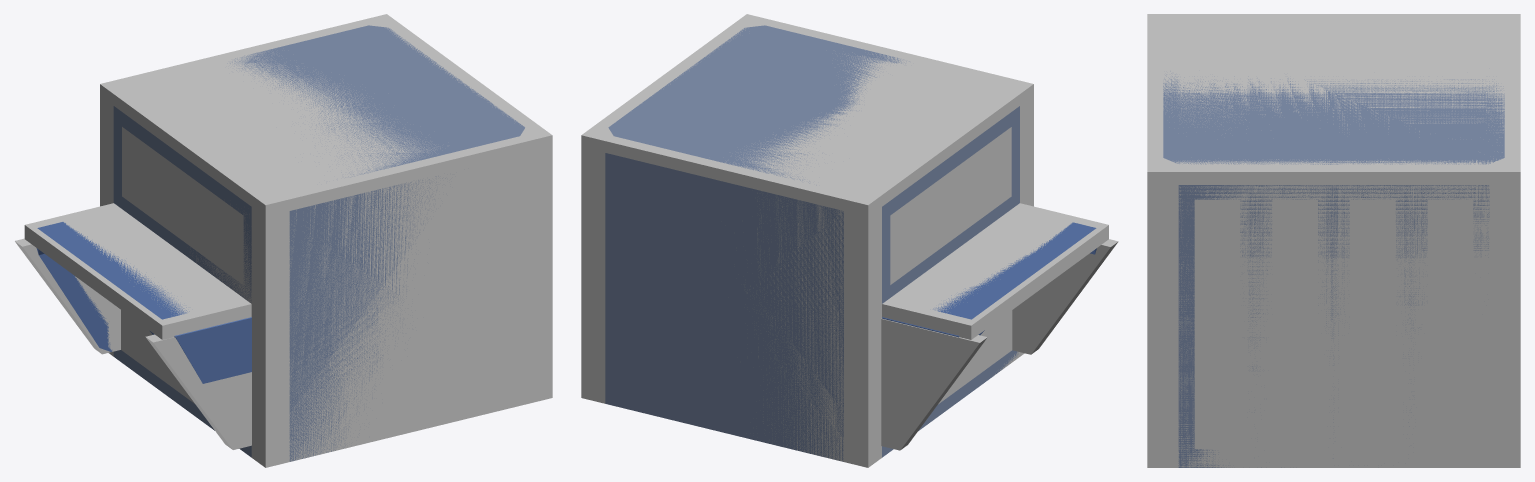
Rendered from SM_Building_15_Base.fbx.
The picture shows the model from 3 angles, left to right: view 1: azimuth 30°, elevation 25°; view 2: azimuth 150°, elevation 25°; view 3: azimuth 270°, elevation 25°; orthographic projection. The views are drawn at different scales.
Visible parts, largest first — view 1: SM_Building_15_Base_ConvexHulls, SM_Building_15_Base; view 2: SM_Building_15_Base, SM_Building_15_Base_ConvexHulls; view 3: SM_Building_15_Base_ConvexHulls, SM_Building_15_Base.
Boxes of the visible parts, x1=… form: SM_Building_15_Base_ConvexHulls: x1=15, y1=14, x2=552, y2=467; SM_Building_15_Base: x1=36, y1=25, x2=524, y2=461; SM_Building_15_Base: x1=605, y1=25, x2=1096, y2=461; SM_Building_15_Base_ConvexHulls: x1=581, y1=14, x2=1118, y2=467; SM_Building_15_Base_ConvexHulls: x1=1147, y1=14, x2=1520, y2=467; SM_Building_15_Base: x1=1163, y1=71, x2=1504, y2=467.
Size of the model in its own units: 1075 by 800 by 700.
Materials: 2 (1 with a texture image).
